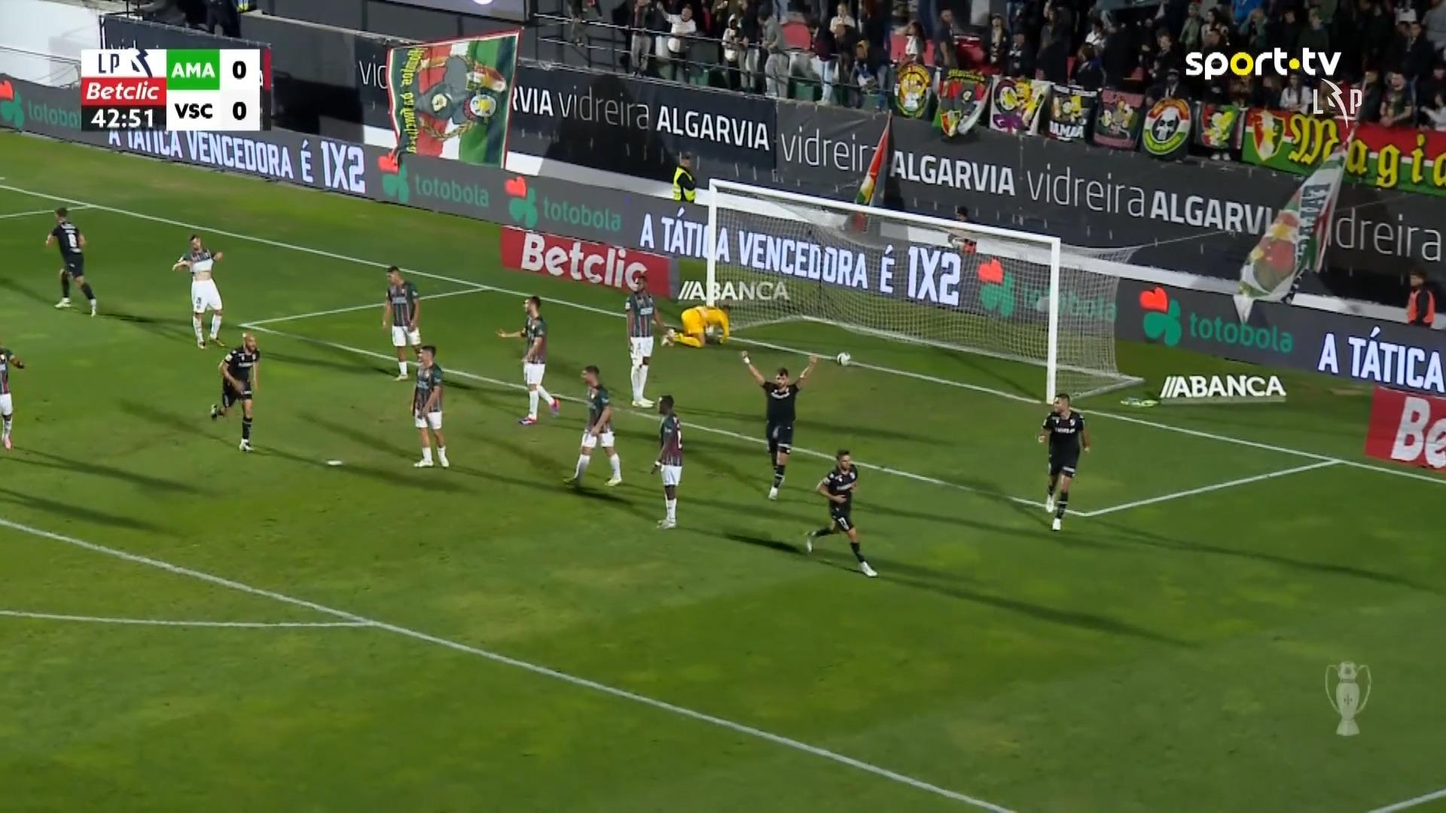ball: (837, 351, 850, 366)
goalkeeper: (660, 304, 731, 349)
player: (739, 348, 819, 501), (804, 448, 878, 577), (496, 294, 560, 425), (562, 364, 624, 487), (1037, 392, 1090, 531), (624, 269, 673, 407), (171, 233, 226, 349), (209, 331, 260, 452), (44, 206, 97, 317), (410, 344, 450, 468), (380, 264, 422, 381), (649, 394, 684, 528), (0, 344, 25, 449)
